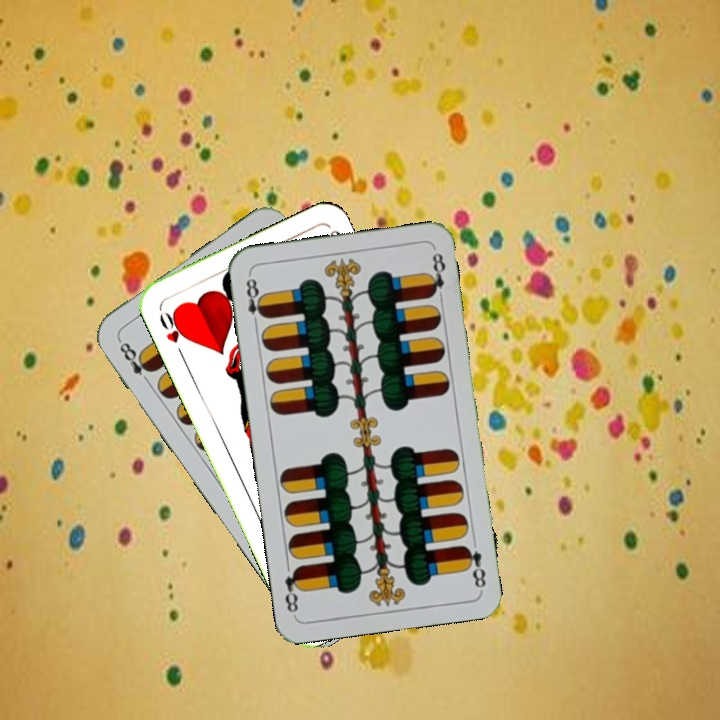E8: (114, 335, 156, 387), (242, 271, 268, 330), (459, 542, 489, 591)
HO: (155, 307, 190, 360)
